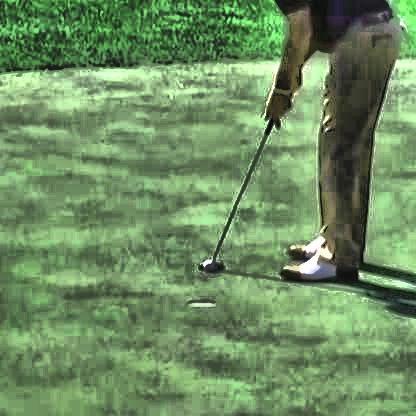golfball: (201, 255, 212, 268)
